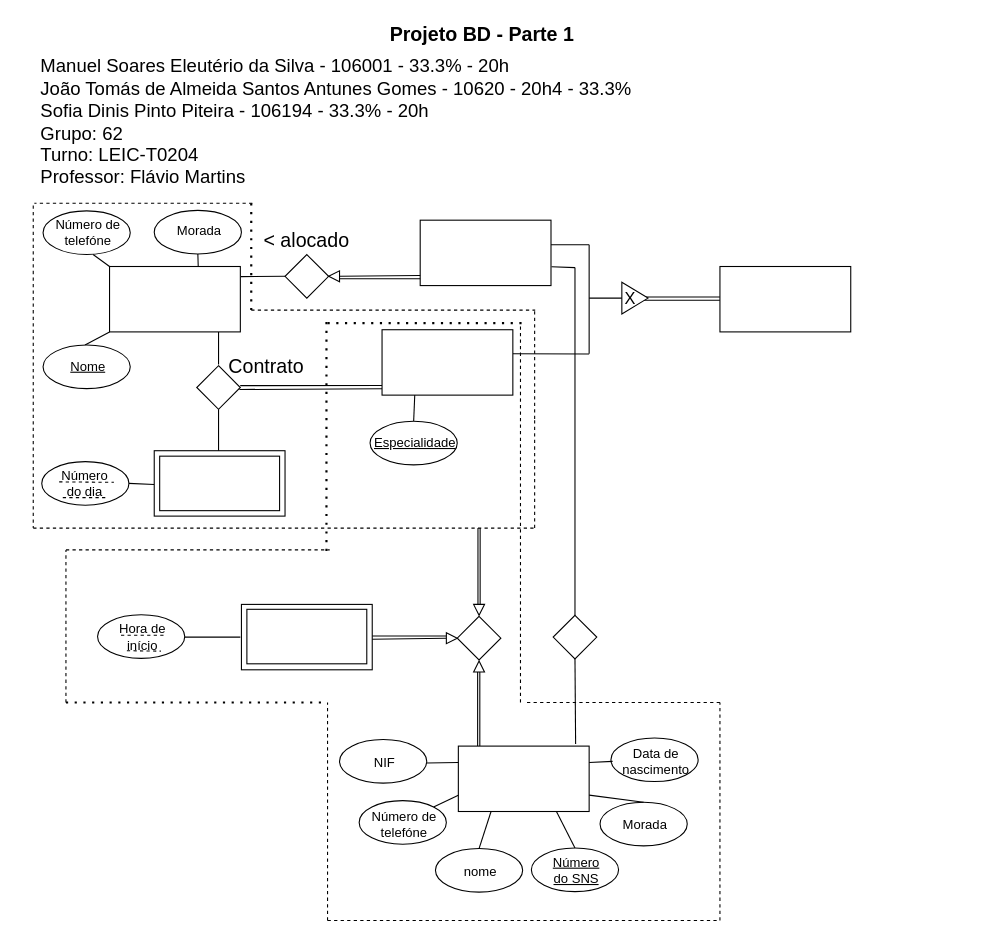
Some shapes in this 983 by 941 pixel diagram are drawn without their labels. The centre of each missing label's shape, as x and y in pixels:
Clinica: pixel 174 298
Dia da semana: pixel 219 483
Enfermeiro: pixel 485 252
Horário: pixel 306 636
Médico: pixel 447 362
Paciente: pixel 523 778
Profissionais de saúde: pixel 785 298
